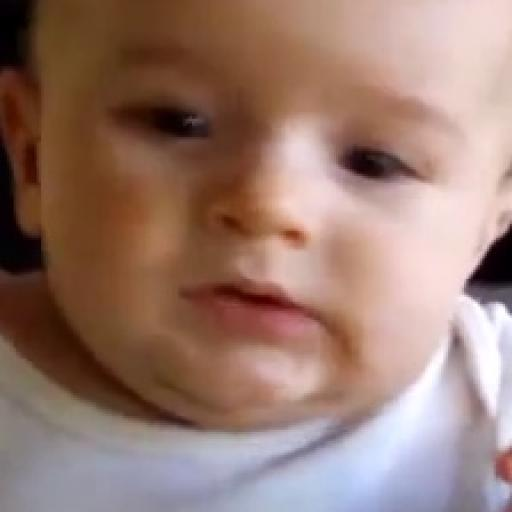Autism: (27, 22, 512, 494)
